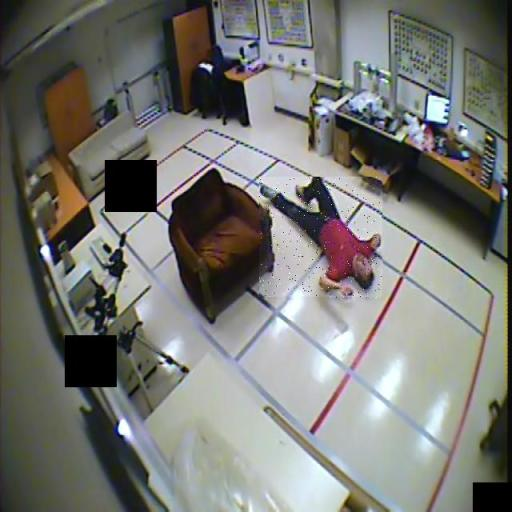Fall: (260, 178, 383, 299)
